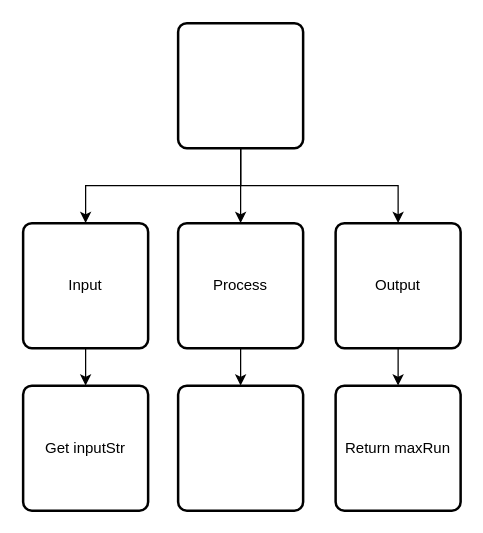
Image size: 483x533. Some labels were removed from this diagram. The shapes that lost their labels are listed below. From the top down, each one's box as (x1, y1, x2, y2) in pixels, then its label:
(176, 21, 304, 149): MaxRun
(176, 384, 304, 511): Calculate maxRun in inputStr
